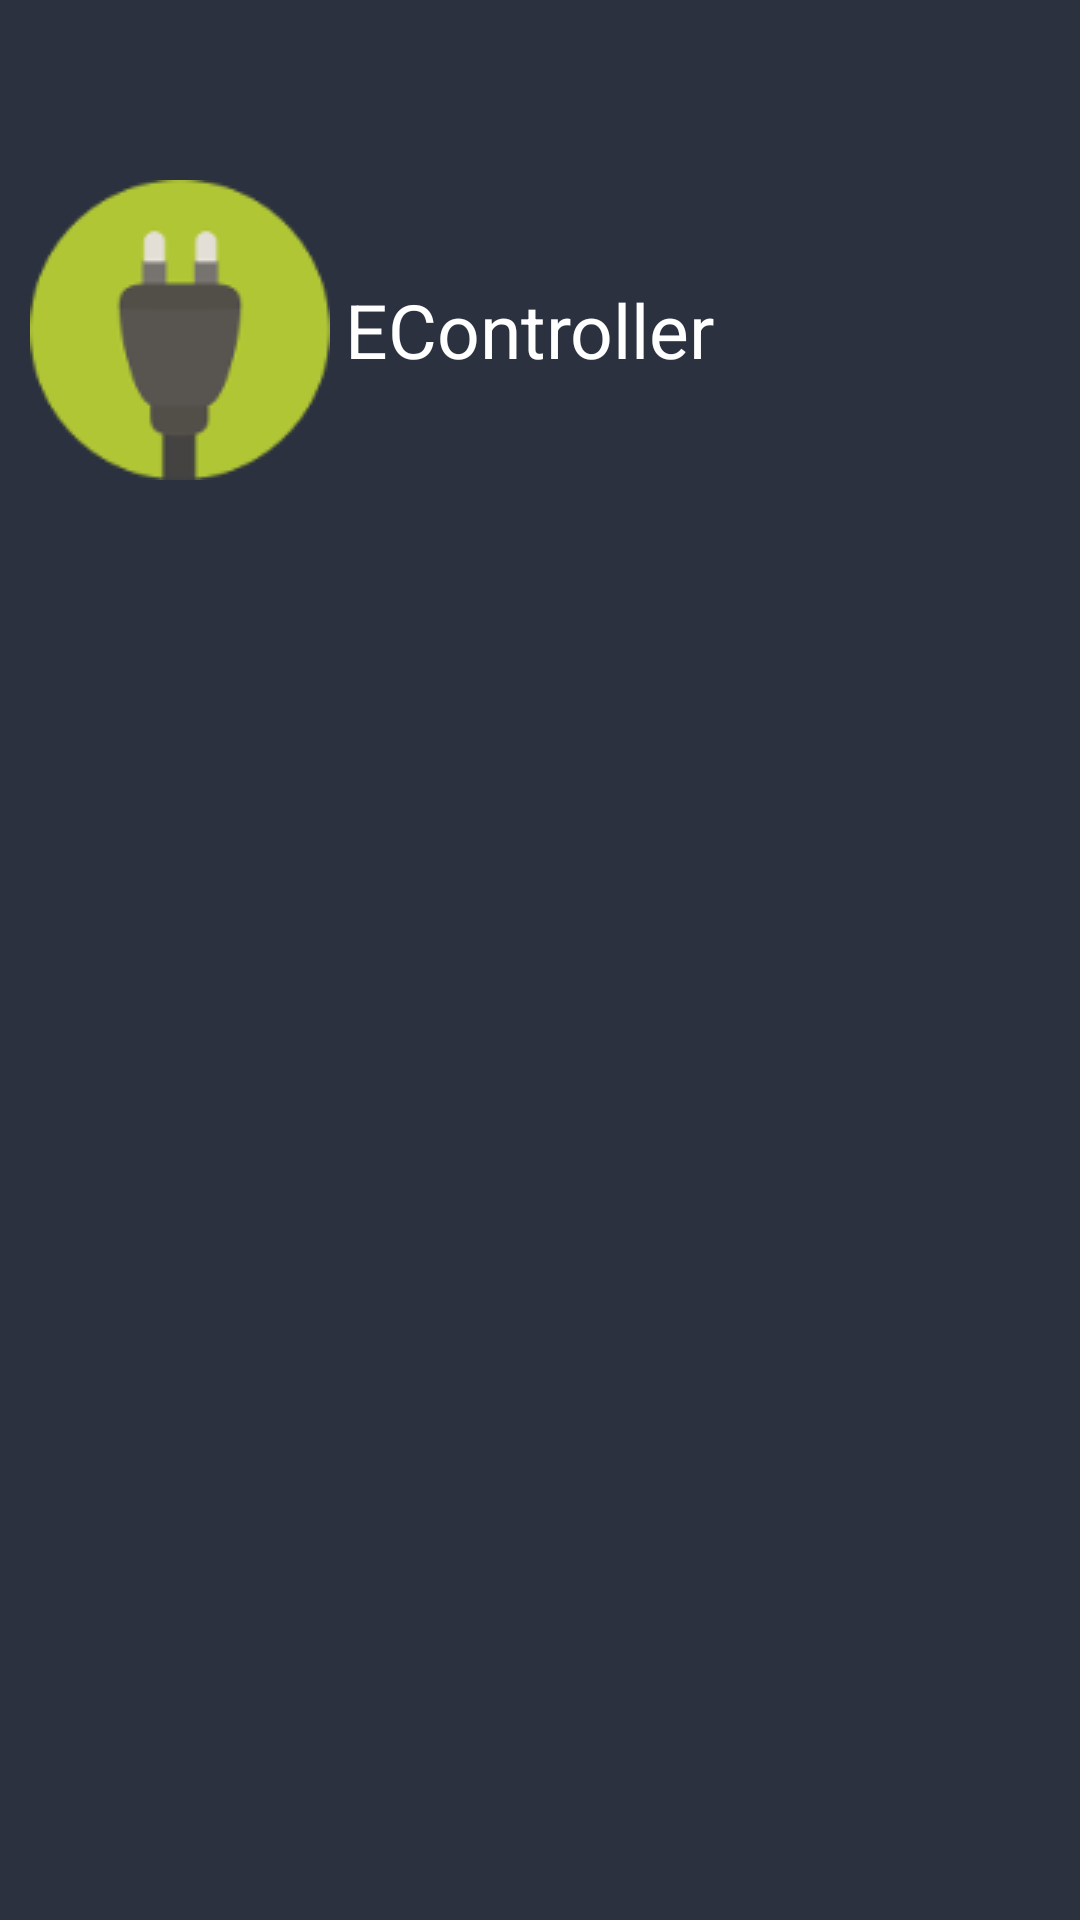

Where icons sit on this 1080*1920 app screen, as (x1, y1, x2, y2):
plugicon: (30, 180, 330, 480)
